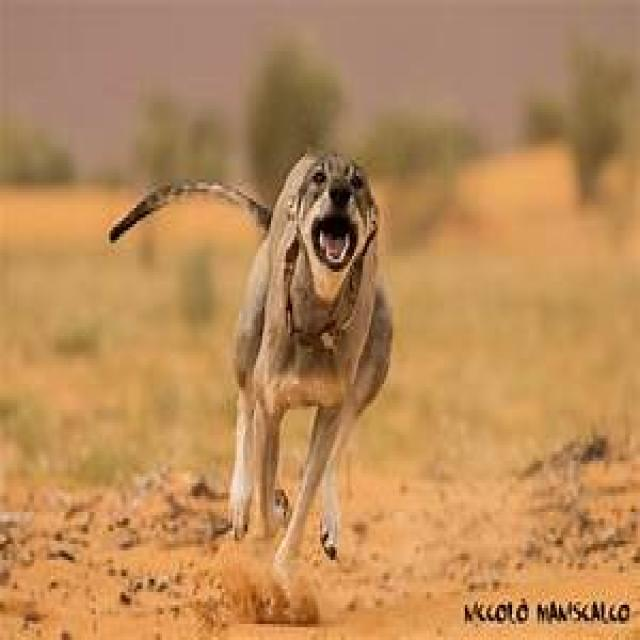dog: (228, 150, 397, 586)
